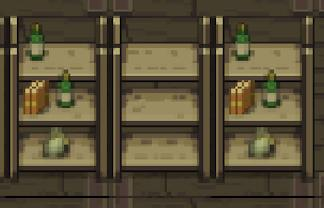Obstacle: (211, 7, 317, 187), (8, 10, 111, 189), (112, 7, 212, 184)
